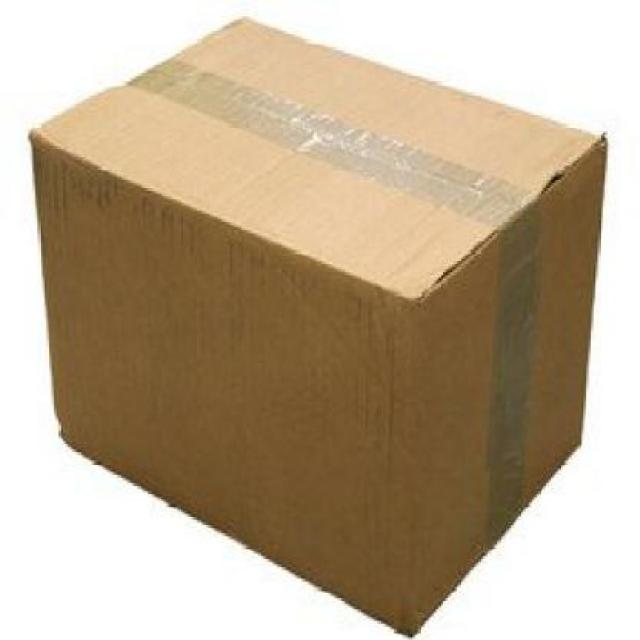box: (22, 8, 610, 640)
